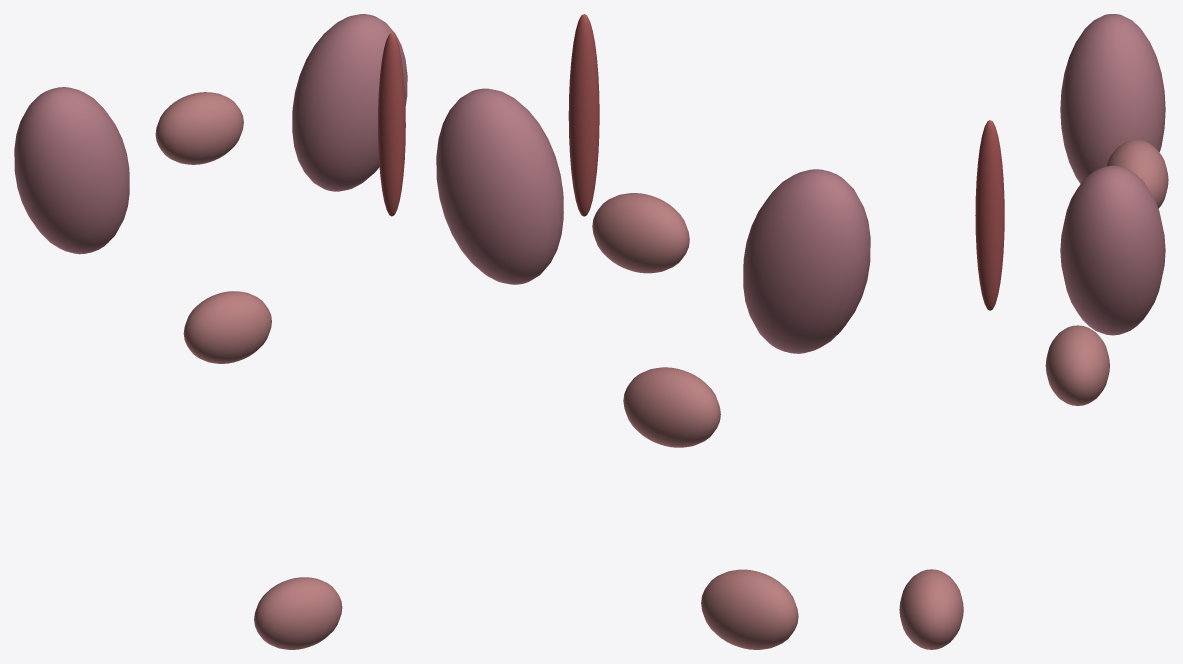
Rendered from urinary-system.glb.
3 renders of one model, left to right at view 1: azimuth 30°, elevation 25°; view 2: azimuth 150°, elevation 25°; view 3: azimuth 270°, elevation 25°, orthographic. The views are drawn at different scales.
Parts seen in each view (by area): view 1: kidneys-297, kidneys-301, dev-marker-ureters, dev-marker-renal-cortex, dev-marker-urethra, dev-marker-renal-arteries; view 2: kidneys-301, kidneys-297, dev-marker-renal-cortex, dev-marker-urethra, dev-marker-ureters, dev-marker-renal-arteries; view 3: kidneys-301, kidneys-297, dev-marker-renal-arteries, dev-marker-urethra, dev-marker-ureters, dev-marker-renal-cortex.
Part boxes in pixels (x1,y1,x2,y2): kidneys-297: (14,87,129,254); kidneys-301: (292,14,407,191); dev-marker-ureters: (183,291,271,363); dev-marker-renal-cortex: (155,92,243,164); dev-marker-urethra: (254,577,342,649); dev-marker-renal-arteries: (378,33,405,216); kidneys-301: (436,88,563,284); kidneys-297: (743,169,870,353); dev-marker-renal-cortex: (592,193,689,273); dev-marker-urethra: (701,569,798,649); dev-marker-ureters: (623,367,720,447); dev-marker-renal-arteries: (568,14,599,216); kidneys-301: (1060,165,1165,335); kidneys-297: (1060,14,1165,183); dev-marker-renal-arteries: (975,120,1004,310); dev-marker-urethra: (899,569,963,649); dev-marker-ureters: (1045,325,1109,405); dev-marker-renal-cortex: (1106,139,1168,208).
Bounding box in the file's own units: 0.7861 × 1.1 × 0.46.
